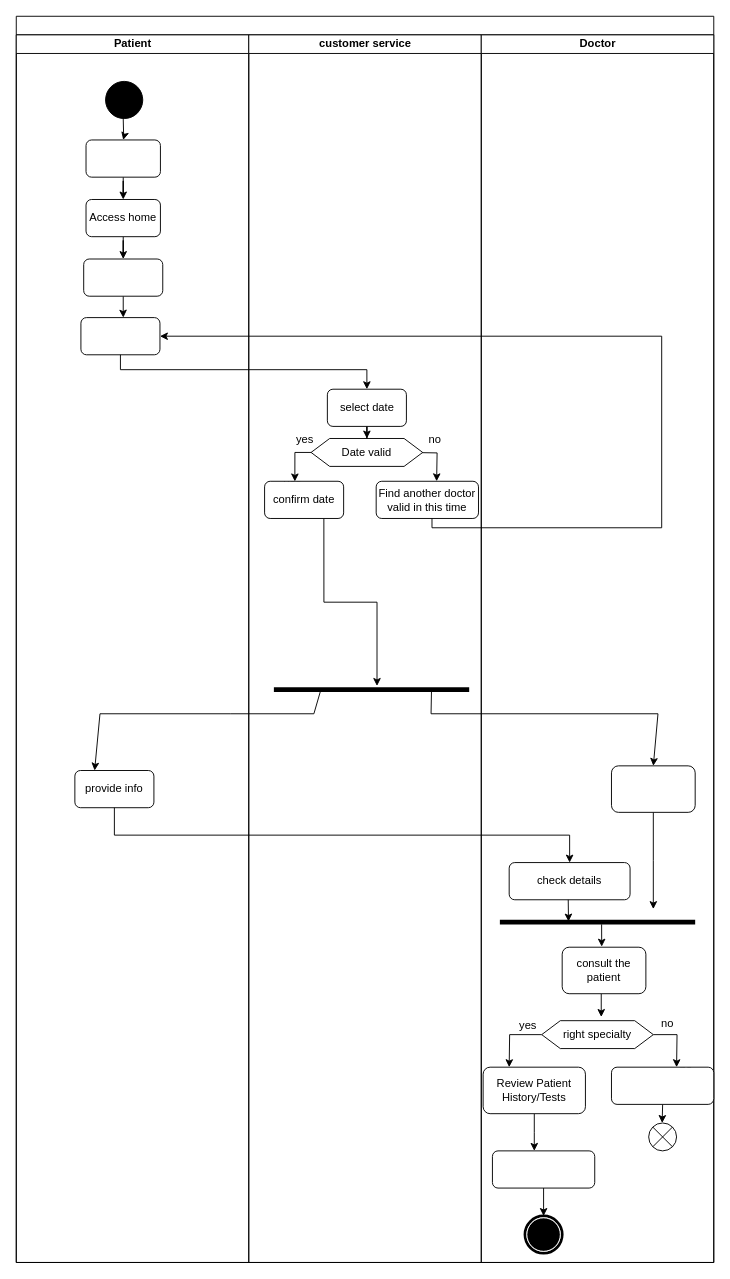
Some shapes in this 730 by 1279 pixel diagram are drawn without their labels. The centre of each missing label's shape, as x and y in pixels:
"Create appointment" goes at point 123,277.
"Find a doctor" goes at point 120,336.
"guide to the right doctor" goes at point 662,1085.
"Login" goes at point 122,158.
"Receive Patient Appointment" goes at point 653,788.
"Write Prescription" goes at point 543,1169.
